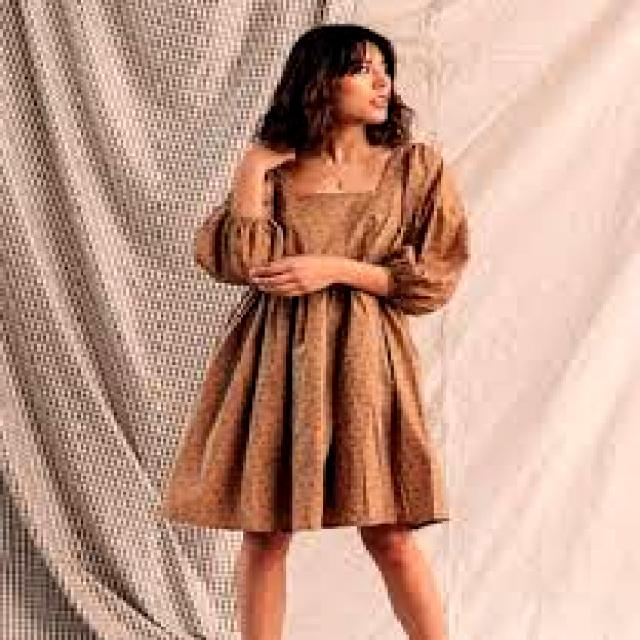dress: (161, 141, 467, 531)
